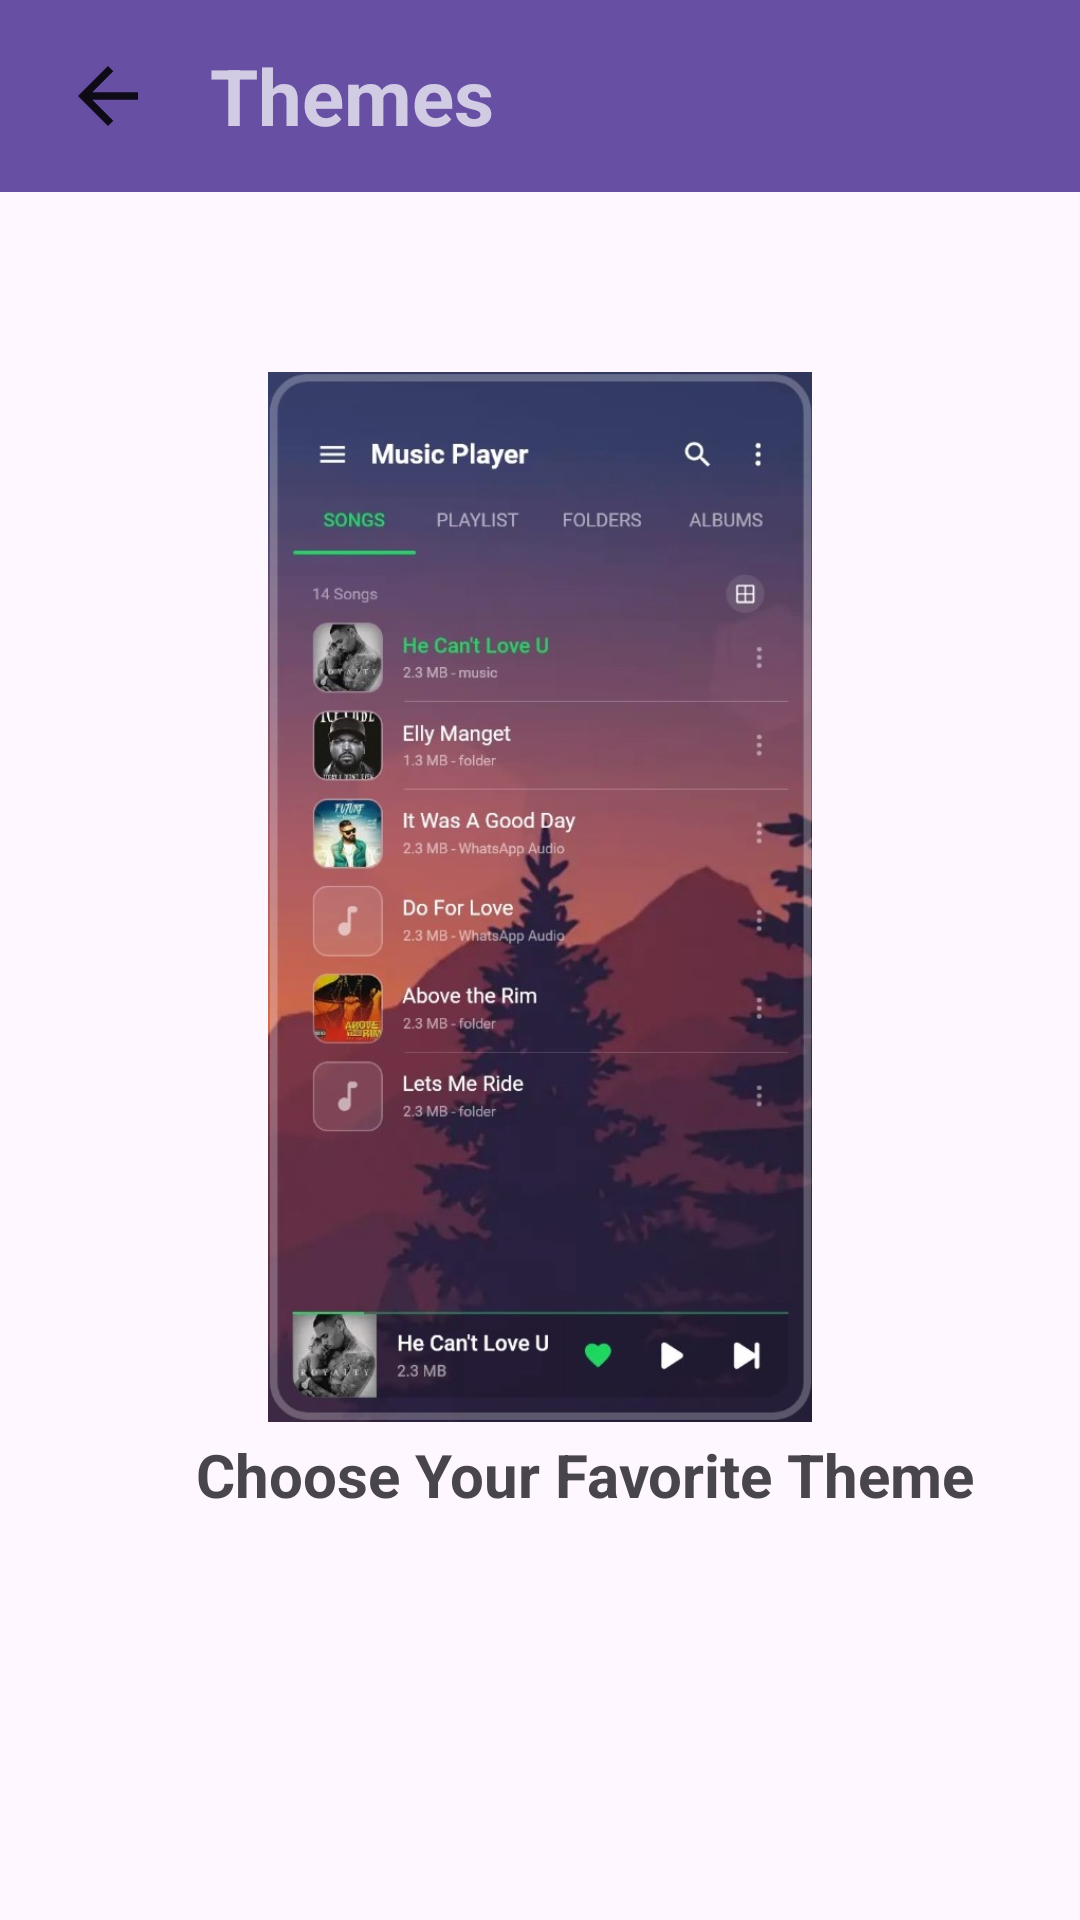

Icons on this 1080px x 1920px Android screen, each with its box as (left=x1, top=y1, right=x2, bottom=y2):
arrow back: (left=78, top=66, right=138, bottom=126)
